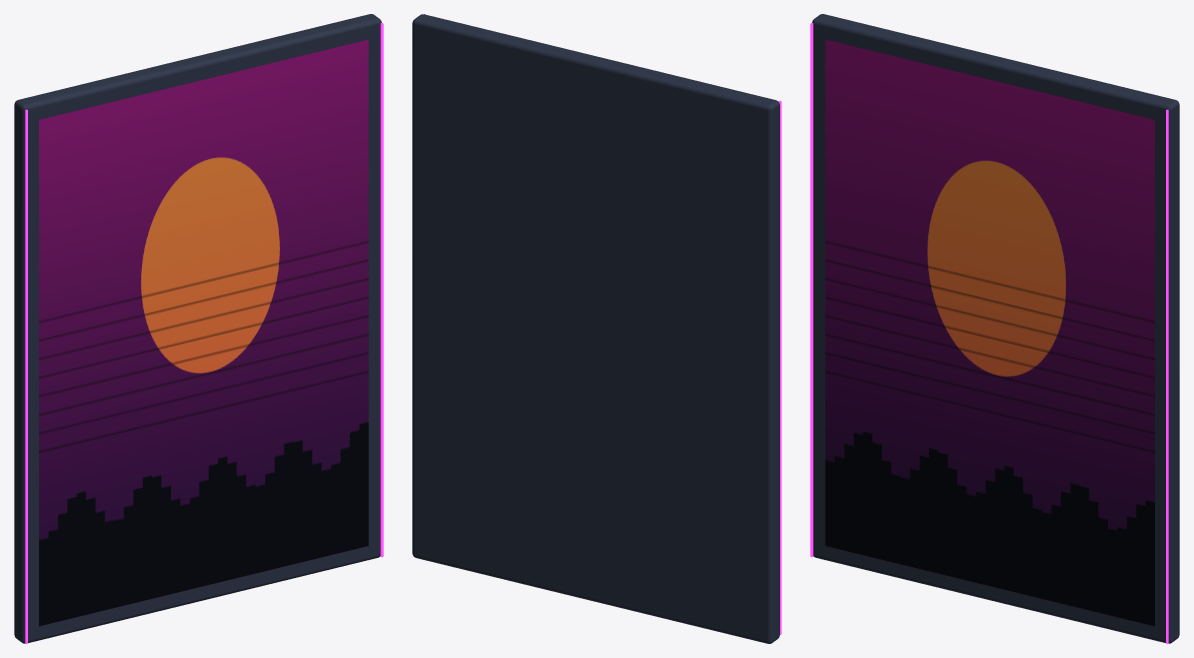
File: Module_Billboard.fbx
3 renders of one model, left to right at view 1: azimuth 30°, elevation 25°; view 2: azimuth 150°, elevation 25°; view 3: azimuth 330°, elevation 25°, orthographic.
Visible parts, largest first — view 1: Night Run screen, Ad frame, Ad edge.001, Ad edge; view 2: Ad frame, Ad edge; view 3: Night Run screen, Ad frame, Ad edge, Ad edge.001.
Boxes of the visible parts, <box> form: Night Run screen: <box>39,39,368,626</box>; Ad frame: <box>14,14,381,643</box>; Ad edge.001: <box>380,23,383,557</box>; Ad edge: <box>25,109,27,643</box>; Ad frame: <box>412,14,779,643</box>; Ad edge: <box>778,100,781,634</box>; Night Run screen: <box>825,39,1154,626</box>; Ad frame: <box>812,14,1179,643</box>; Ad edge: <box>810,23,813,557</box>; Ad edge.001: <box>1166,109,1168,643</box>.
Bounding box in the file's own units: 7 × 10 × 0.405.
